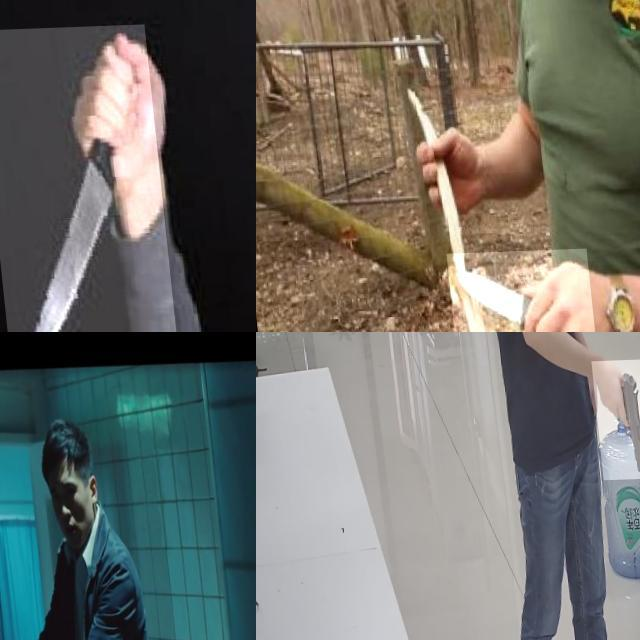-: (0, 26, 172, 332), (437, 251, 588, 332)
gun-knife-thesis - v11 Yolov5 augmented: (583, 362, 640, 483), (0, 584, 13, 636), (0, 562, 9, 610)
